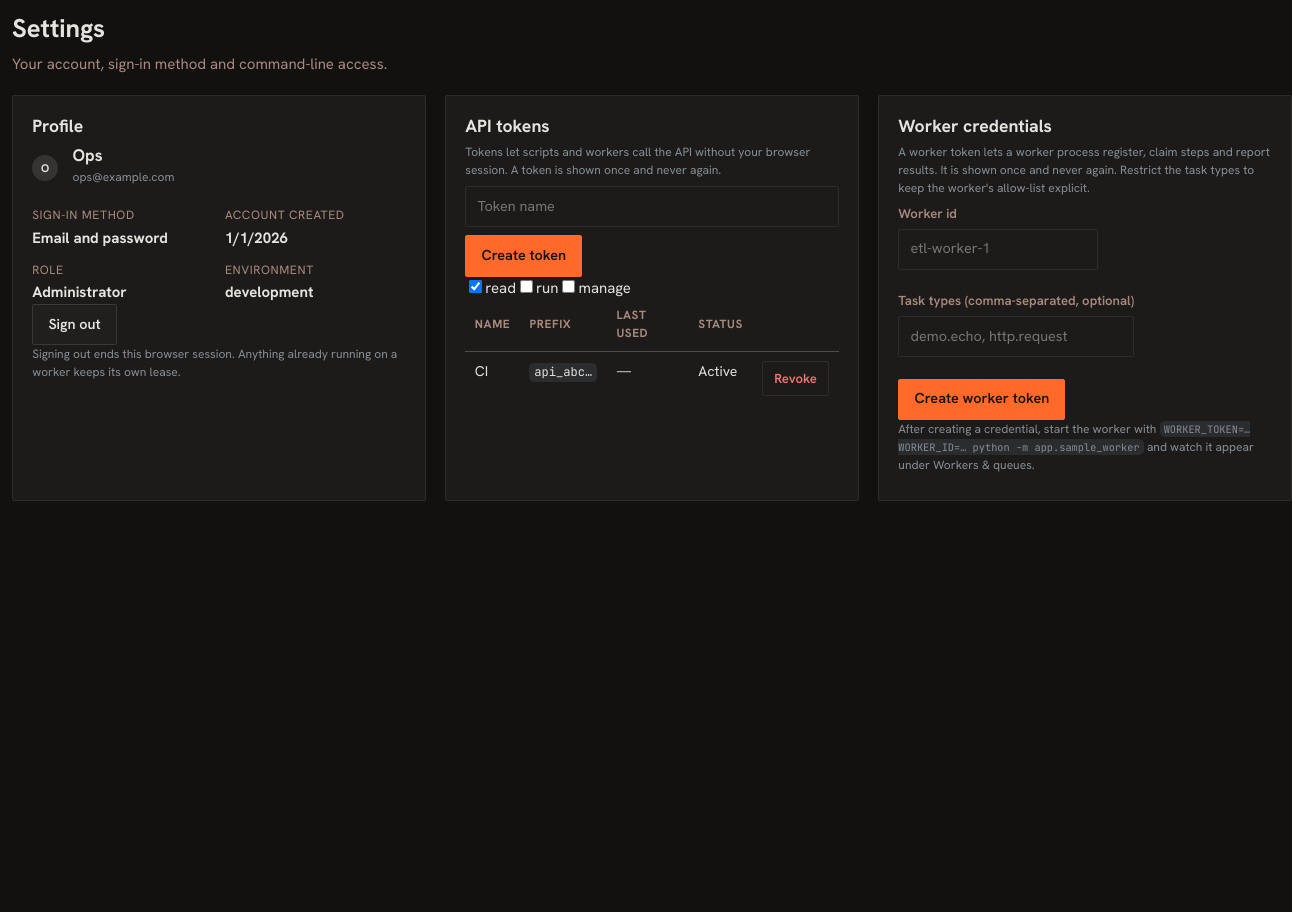
Test case: SettingsPage › dismisses the once-only worker token banner
The width and height of the screenshot is (1292, 912).
Check: the text "CI" is shown, box top-left (465, 351), bottom-right (520, 405)
Type "etl-1" into the field labelled "Worker id" at (998, 249), box top-left (898, 229), bottom-right (1098, 270)
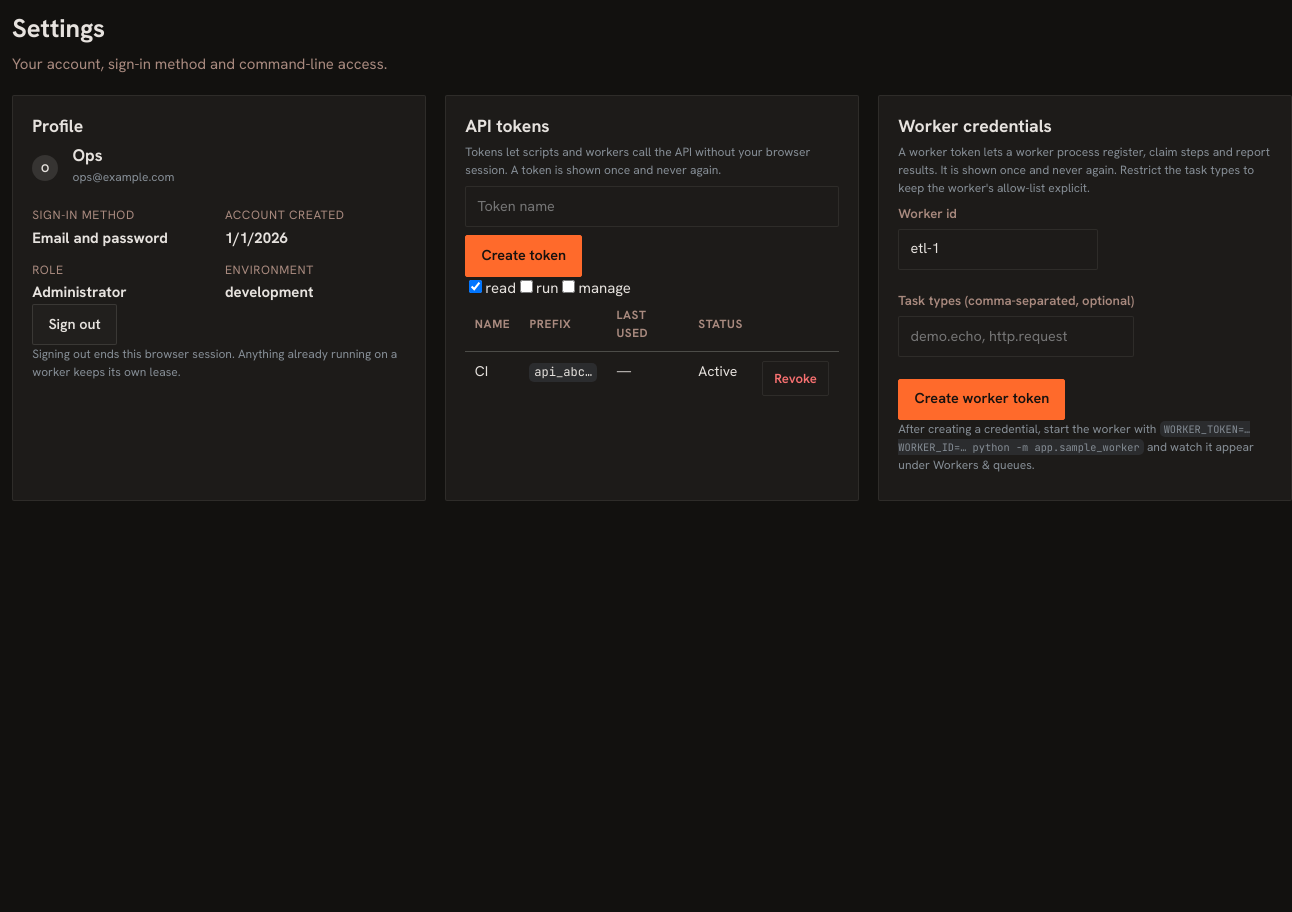
Click the button "Create worker token" at (982, 399), box top-left (898, 379), bottom-right (1066, 420)
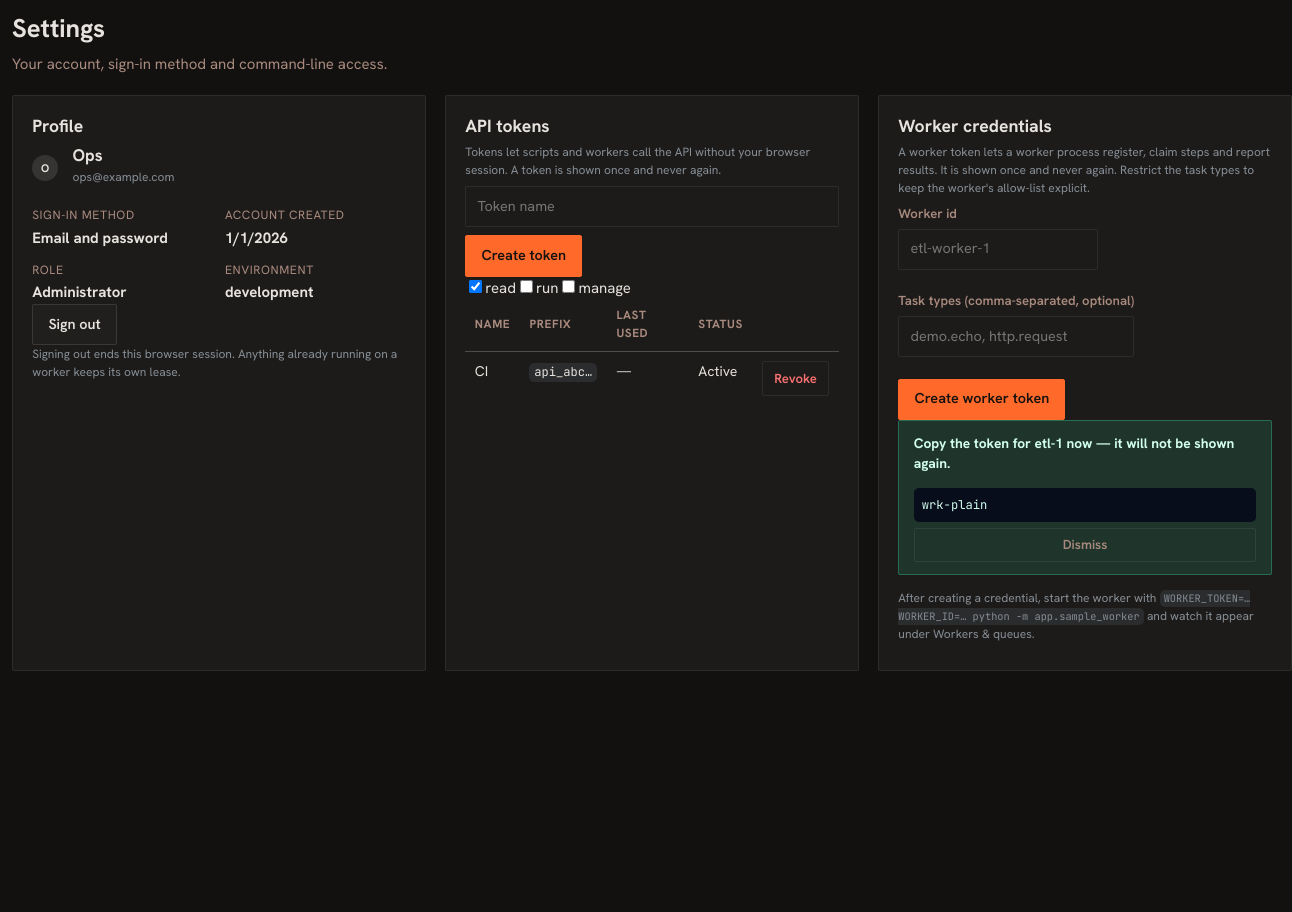
Click the button "Dismiss" at (1085, 545), box top-left (914, 528), bottom-right (1256, 562)
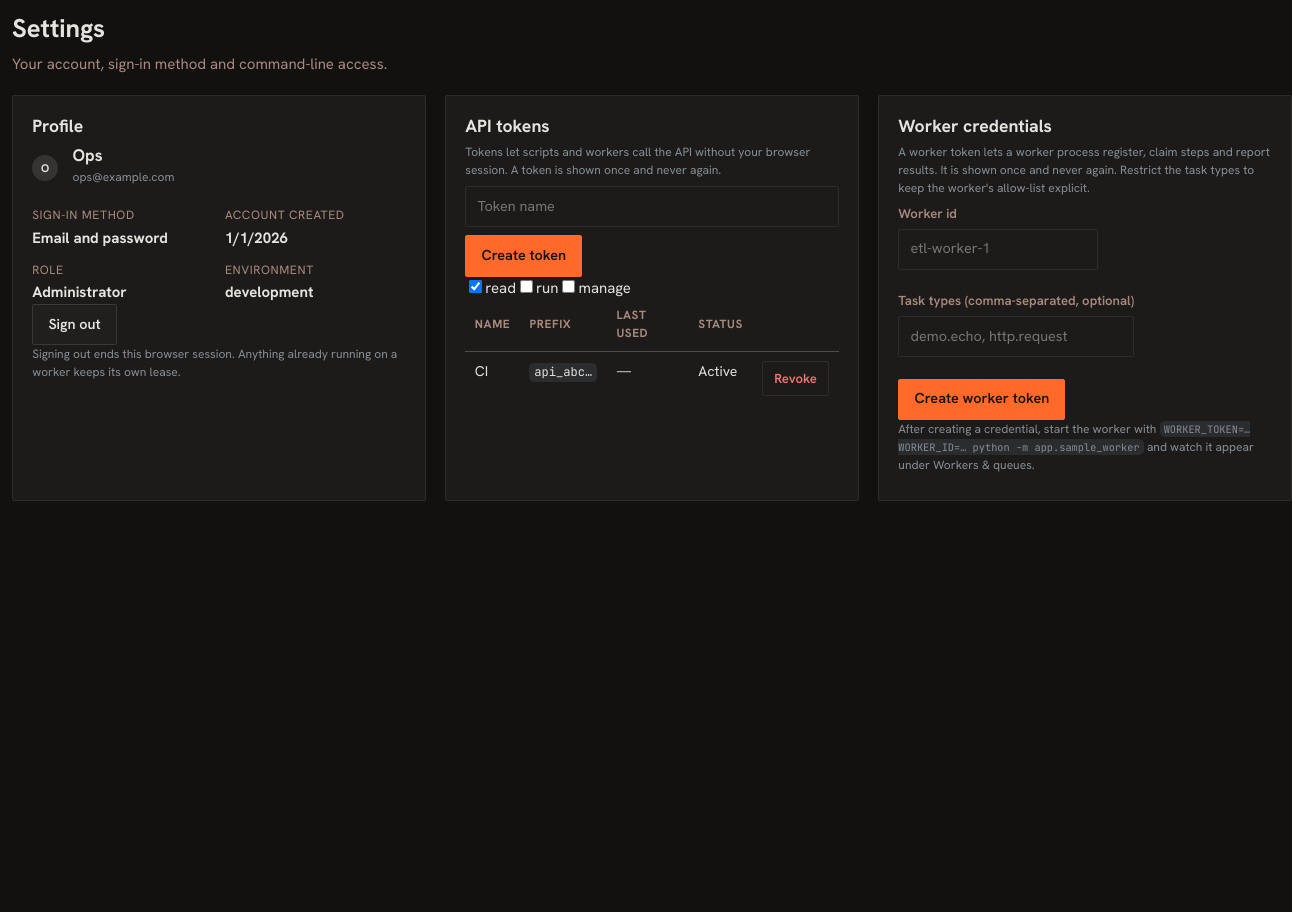
Check: the text "Copy the token for etl-1 now" is gone
